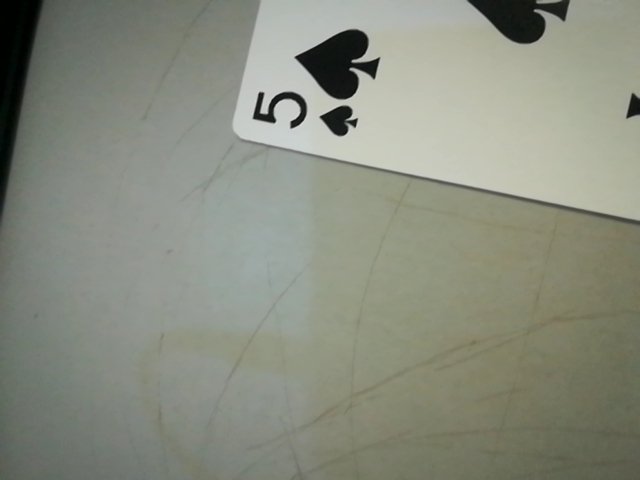ht 5: (236, 65, 382, 152)
